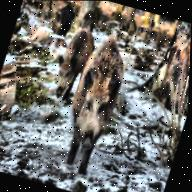boar: (55, 25, 140, 173), (46, 19, 98, 102)
